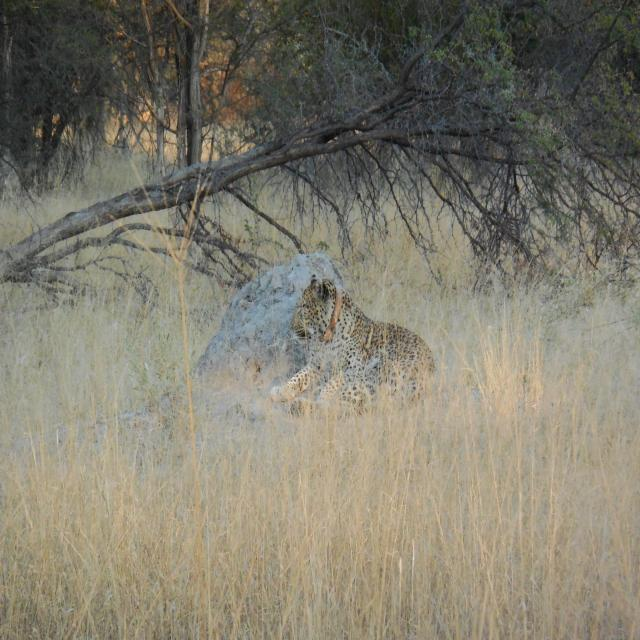Leopard: (274, 282, 440, 410)
